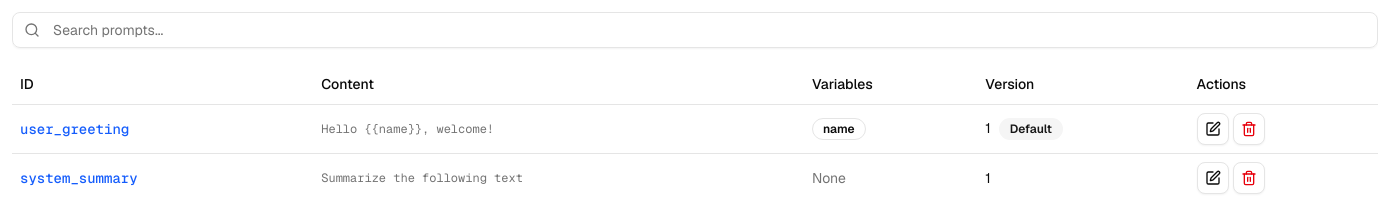
Test: PromptList › Search Functionality › filters prompts by prompt ID
Type "user" into the field with placeholder "Search prompts..." at {"x": 695, "y": 30}, box [12,12,1378,48]
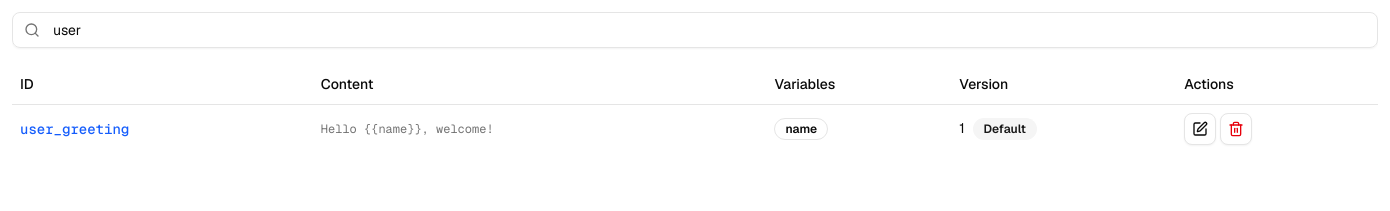
Expected: the text "user_greeting" is shown, [20,118,129,138]
Expected: the button "system_summary" is gone
